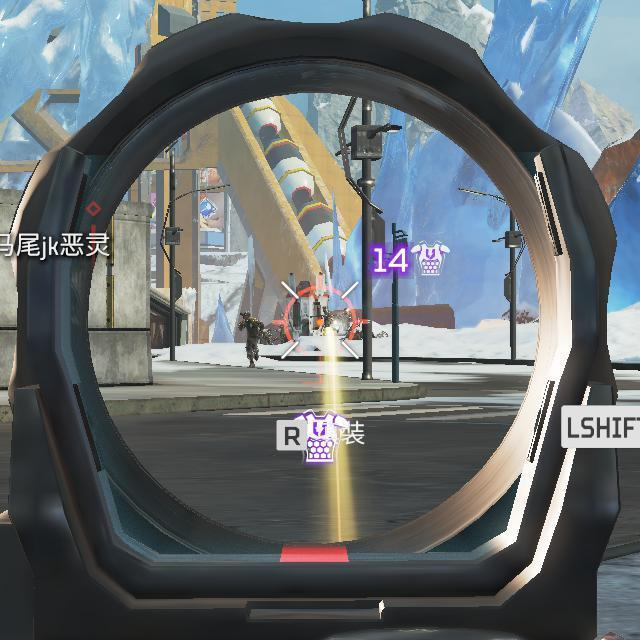avatar: (235, 309, 267, 369)
